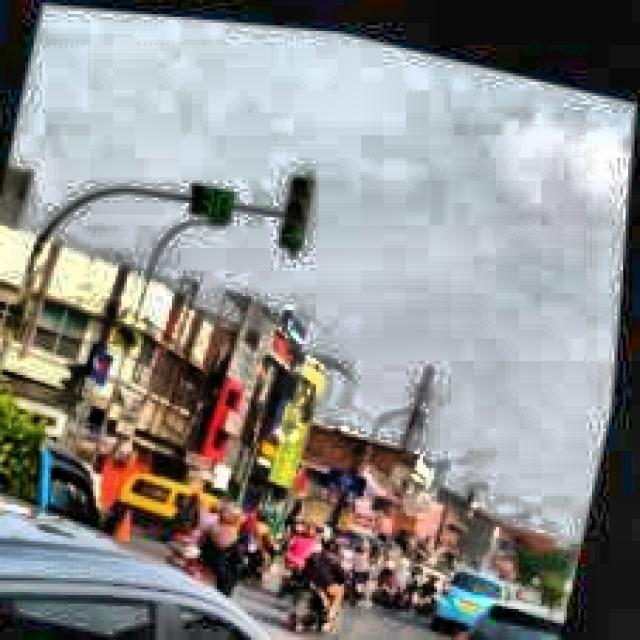green: (280, 164, 323, 242)
